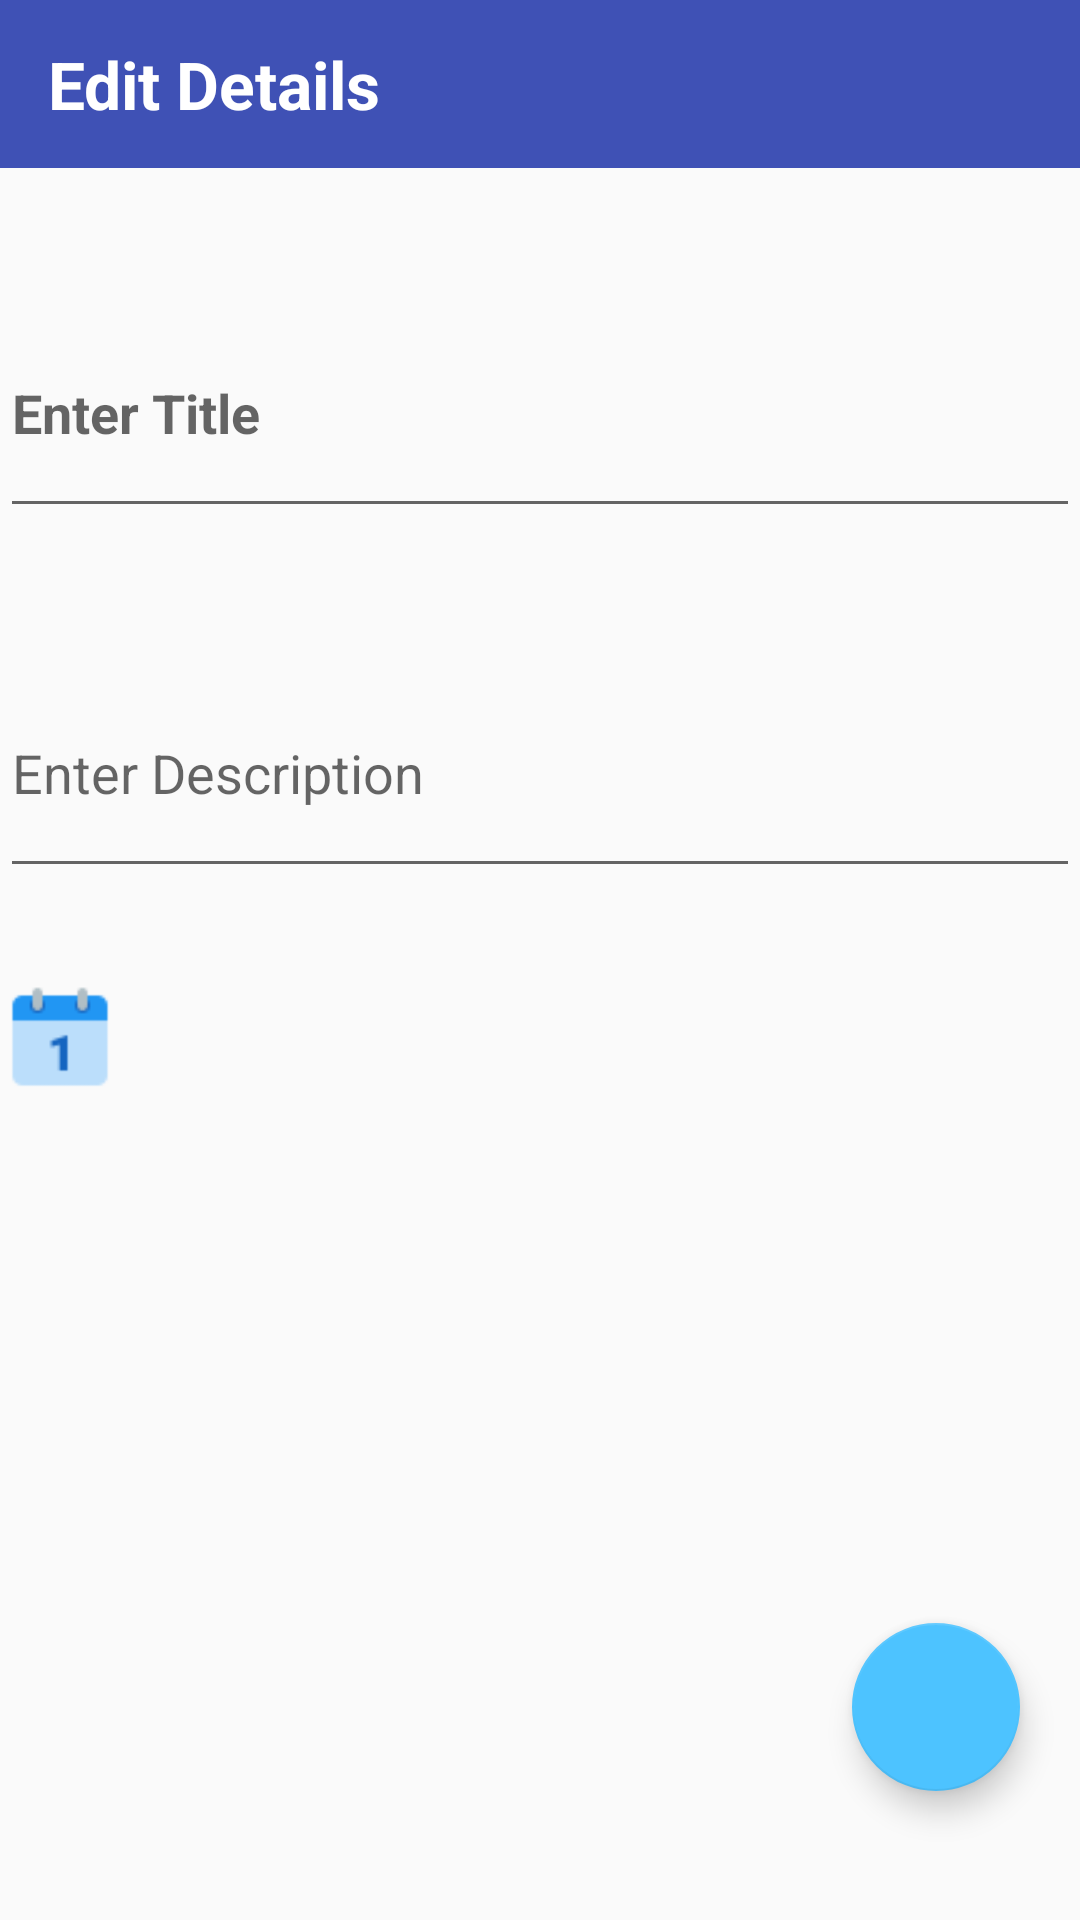

Named icons in this screenshot (1080px×1920px) and their centers, (x,y):
date: (60,1037)
